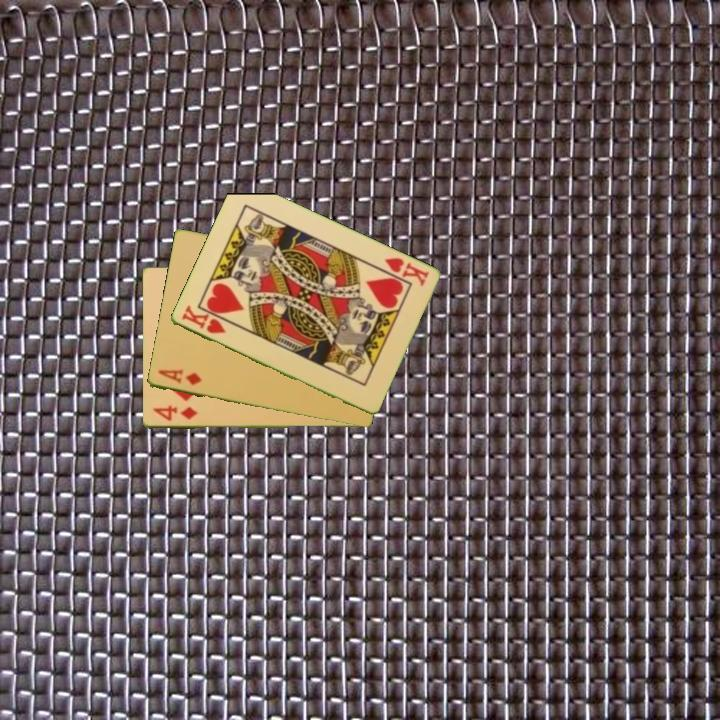4d: (149, 402, 201, 424)
Ad: (154, 366, 204, 388)
Kh: (178, 302, 228, 337), (381, 254, 431, 289)
